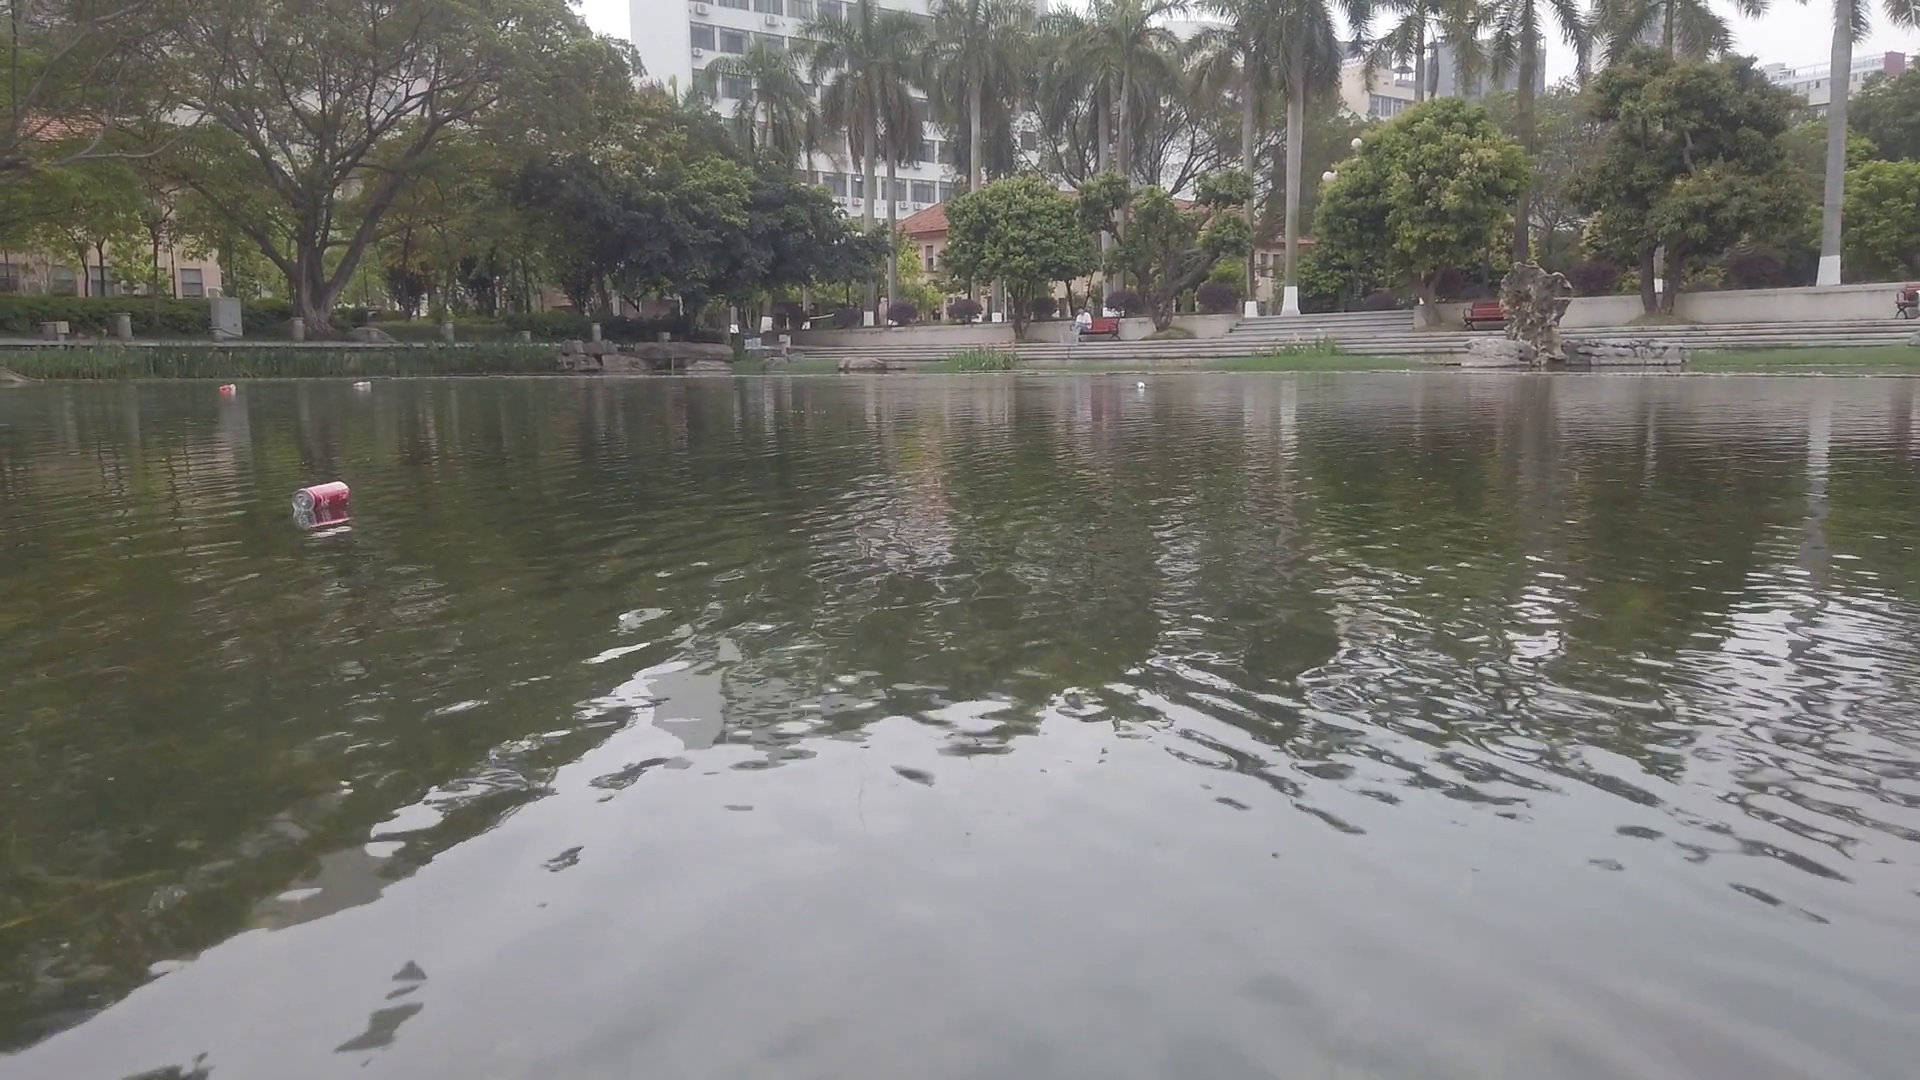bottle: (294, 479, 355, 516), (355, 378, 375, 392), (219, 384, 237, 396), (1137, 381, 1145, 389)
